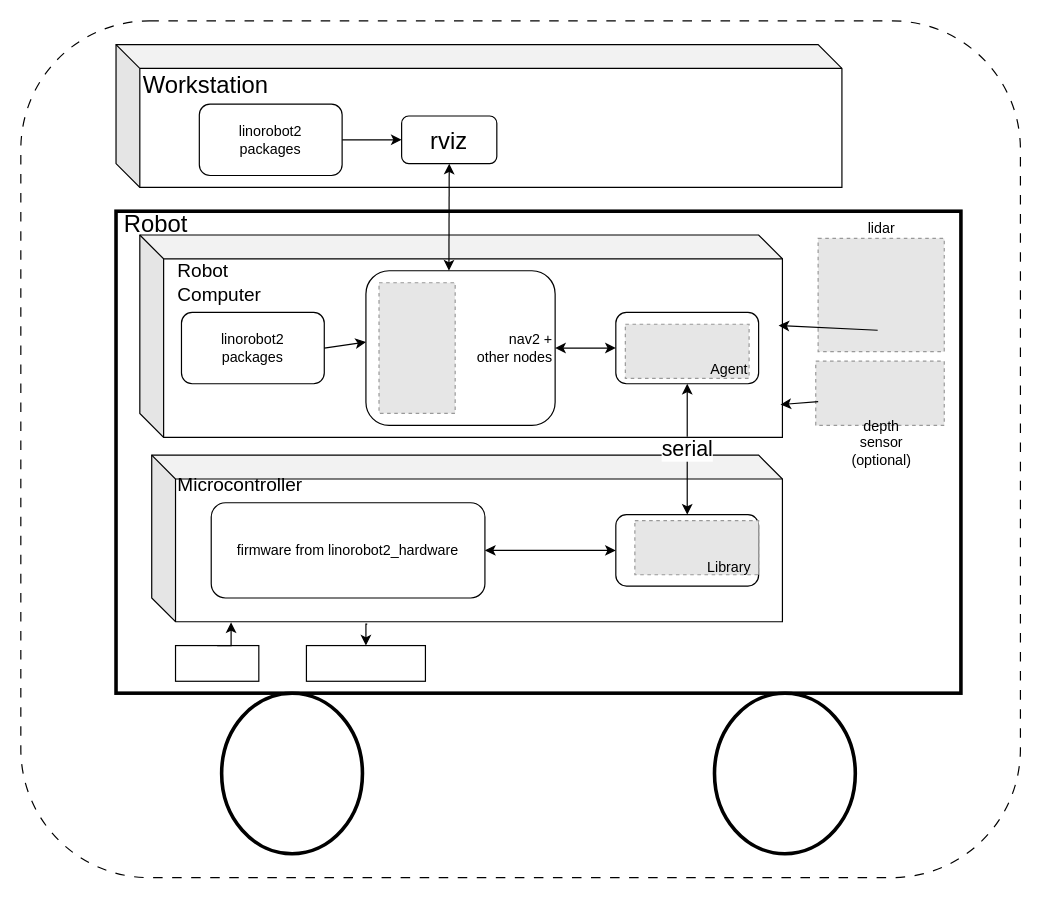
Image size: 1041x898. Some labels were removed from this diagram. Grey dashed boxes stand in for pictures. The centre of each missing label's shape, as x and y in pixels:
"Motor drivers" belongs at (x=365, y=662).
"Sensors" belongs at (x=216, y=662).
